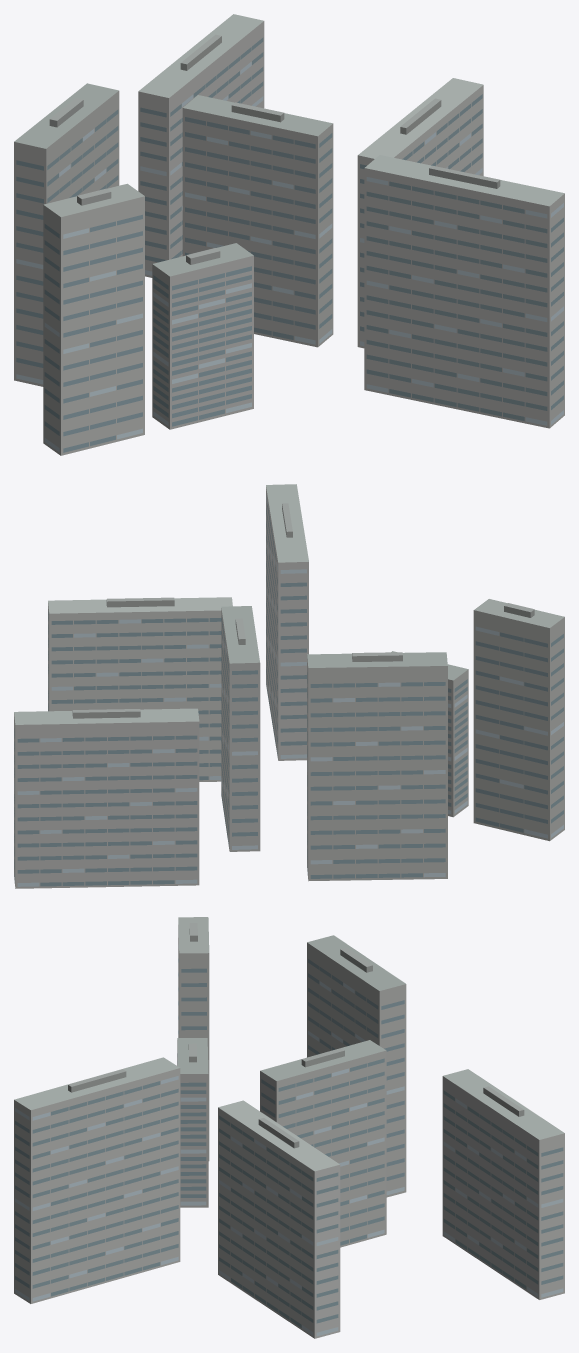
File: apt-a15081107.glb
The picture shows the model from 3 angles, top to bottom: view 1: azimuth 30°, elevation 25°; view 2: azimuth 150°, elevation 25°; view 3: azimuth 270°, elevation 25°; orthographic projection. The views are drawn at different scales.
Visible parts, largest first — view 1: apt-a15081107; view 2: apt-a15081107; view 3: apt-a15081107.
Boxes of the visible parts, bbox=[...] form: apt-a15081107: bbox=[14, 14, 564, 455]; apt-a15081107: bbox=[14, 484, 564, 888]; apt-a15081107: bbox=[14, 917, 564, 1338].
Size of the model in its own units: 190 by 89 by 208.
